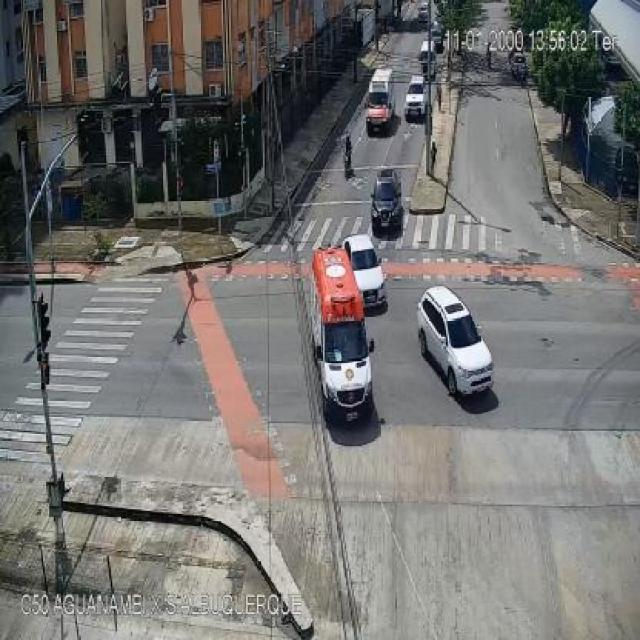car: (418, 286, 494, 398), (344, 234, 388, 311), (371, 169, 402, 238), (405, 75, 426, 122)
minivan: (312, 246, 374, 421)
traffic-lights: (35, 295, 51, 389)
